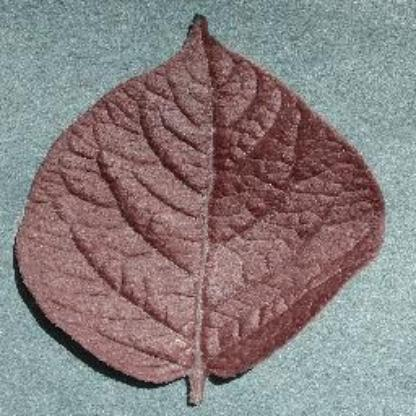Healthy-plant: (23, 7, 382, 398)
